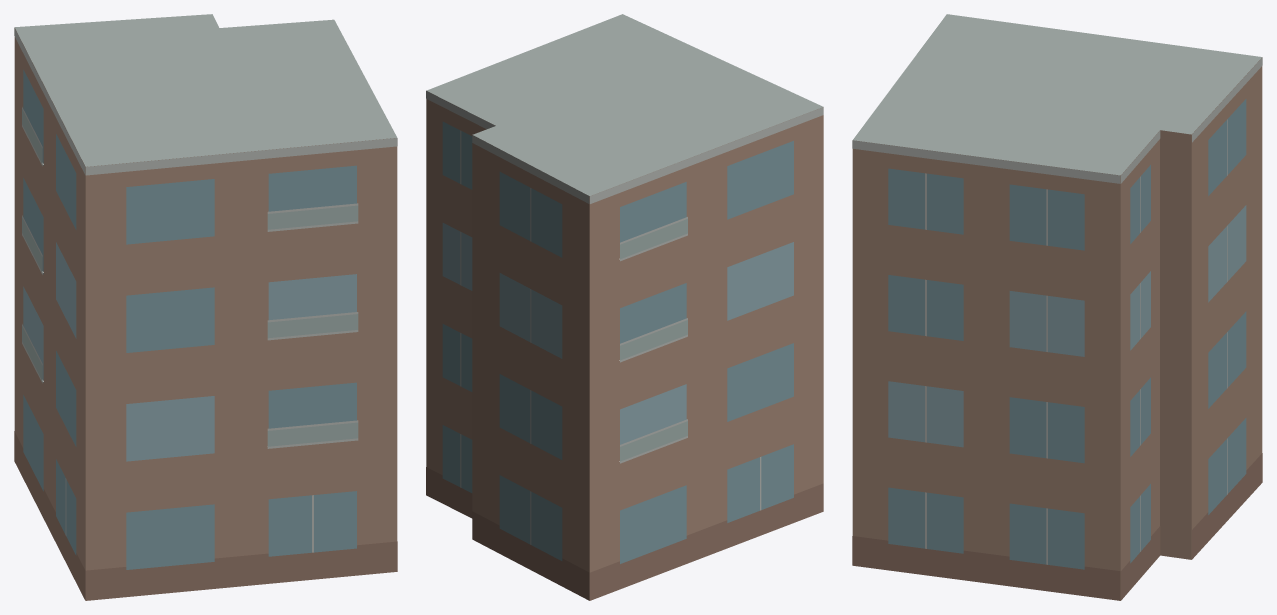
The model's file is survey-upis-32733211.glb.
3 renders of one model, left to right at view 1: azimuth 30°, elevation 25°; view 2: azimuth 150°, elevation 25°; view 3: azimuth 270°, elevation 25°, orthographic. The views are drawn at different scales.
Parts seen in each view (by area): view 1: survey-upis-32733211.tmp; view 2: survey-upis-32733211.tmp; view 3: survey-upis-32733211.tmp.
Boxes of the visible parts, x1=… form: survey-upis-32733211.tmp: x1=14, y1=14, x2=397, y2=600; survey-upis-32733211.tmp: x1=426, y1=14, x2=823, y2=600; survey-upis-32733211.tmp: x1=852, y1=14, x2=1262, y2=600.
Size of the model in its own units: 9.94 by 12.2 by 10.67.
